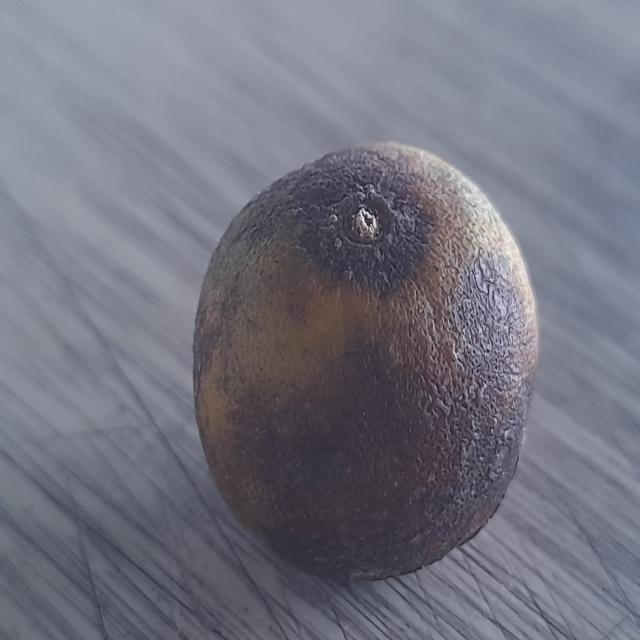black spot: (185, 130, 556, 584)
